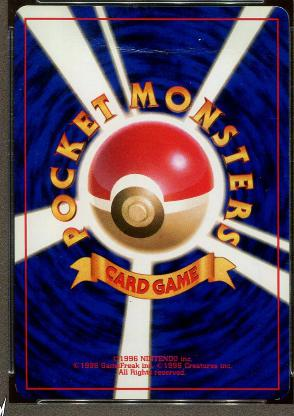Card: (8, 0, 291, 403)
Corner Wear: (270, 394, 284, 402), (13, 380, 19, 392)
Scratch: (86, 35, 220, 55)
